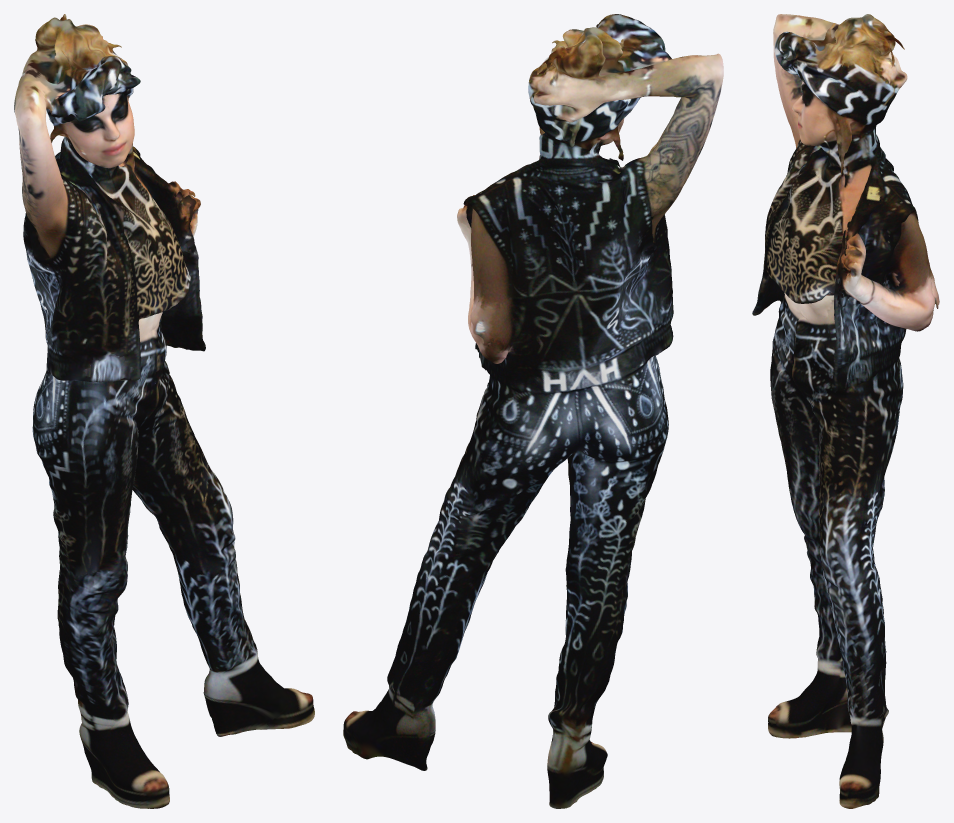
The model's file is SamFashionScan.glb.
The picture shows the model from 3 angles, left to right: view 1: azimuth 30°, elevation 25°; view 2: azimuth 150°, elevation 25°; view 3: azimuth 270°, elevation 25°; orthographic projection. The views are drawn at different scales.
Visible parts, largest first — view 1: Object_3, Object_2; view 2: Object_2, Object_3; view 3: Object_2, Object_3.
Boxes of the visible parts, left/top/right/bottom form: Object_3: left=14, top=33, right=312, bottom=807; Object_2: left=14, top=14, right=314, bottom=808; Object_2: left=343, top=27, right=723, bottom=808; Object_3: left=475, top=14, right=723, bottom=808; Object_2: left=769, top=14, right=939, bottom=808; Object_3: left=752, top=15, right=902, bottom=807.
Bounding box in the file's own units: 0.7814 × 1.73 × 0.4193.
Materials: 1 (1 with a texture image).
